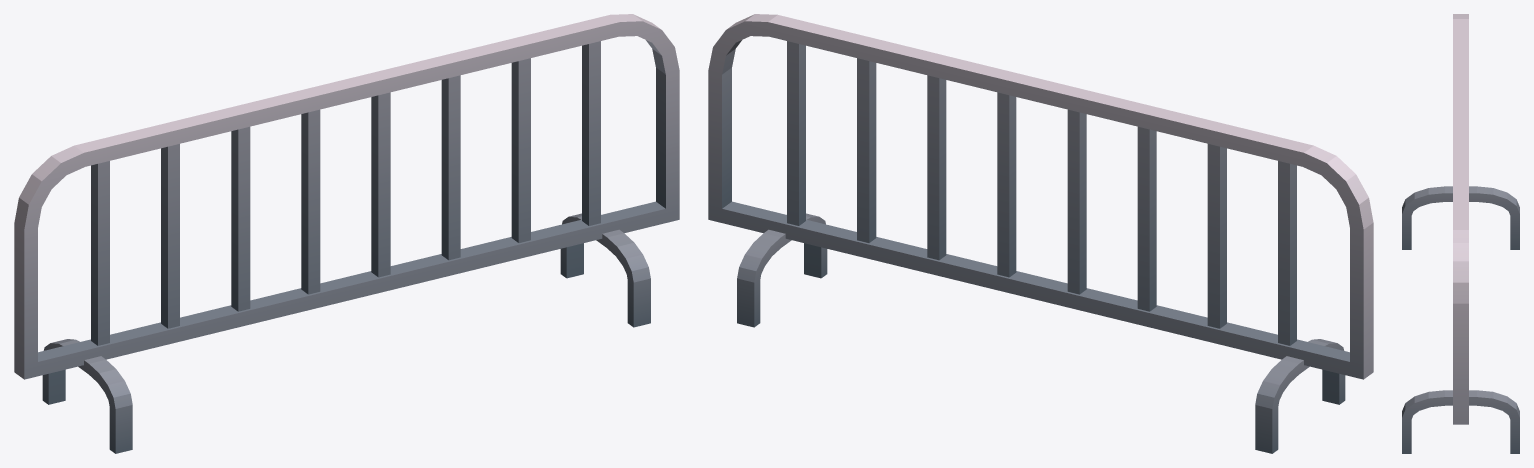
Rendered from lpb_fence_12.fbx.
The picture shows the model from 3 angles, left to right: view 1: azimuth 30°, elevation 25°; view 2: azimuth 150°, elevation 25°; view 3: azimuth 270°, elevation 25°; orthographic projection. The views are drawn at different scales.
Visible parts, largest first — view 1: fence12; view 2: fence12; view 3: fence12.
Part boxes in pixels (box(x1,y1,x2,y2)): fence12: box(14, 14, 679, 453); fence12: box(708, 14, 1373, 453); fence12: box(1402, 14, 1519, 453).
Bounding box in the file's own units: 493 × 200 × 95.23.
